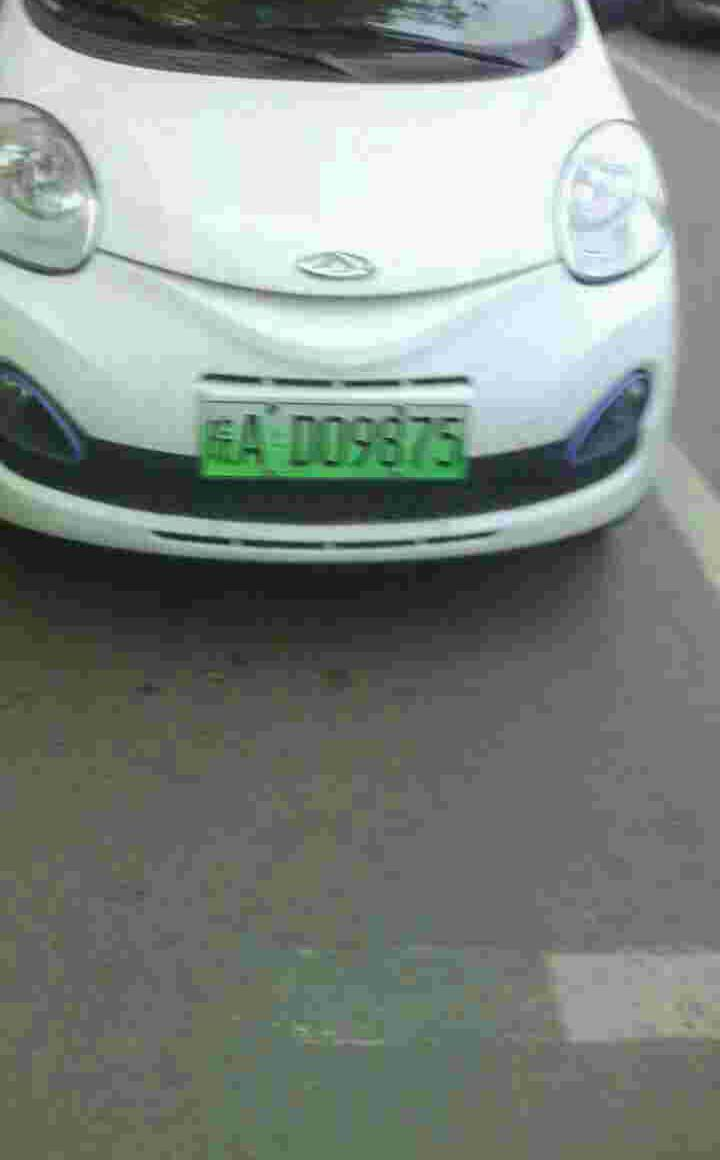car_green: (205, 392, 472, 489)
